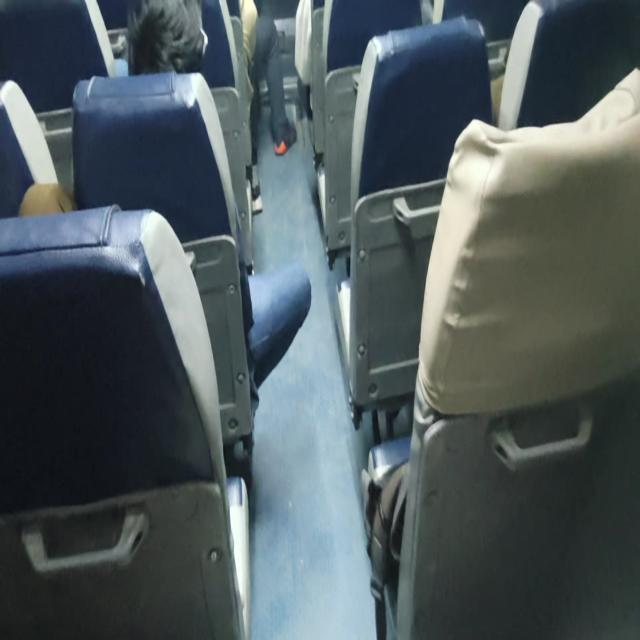person: (147, 4, 210, 68)
